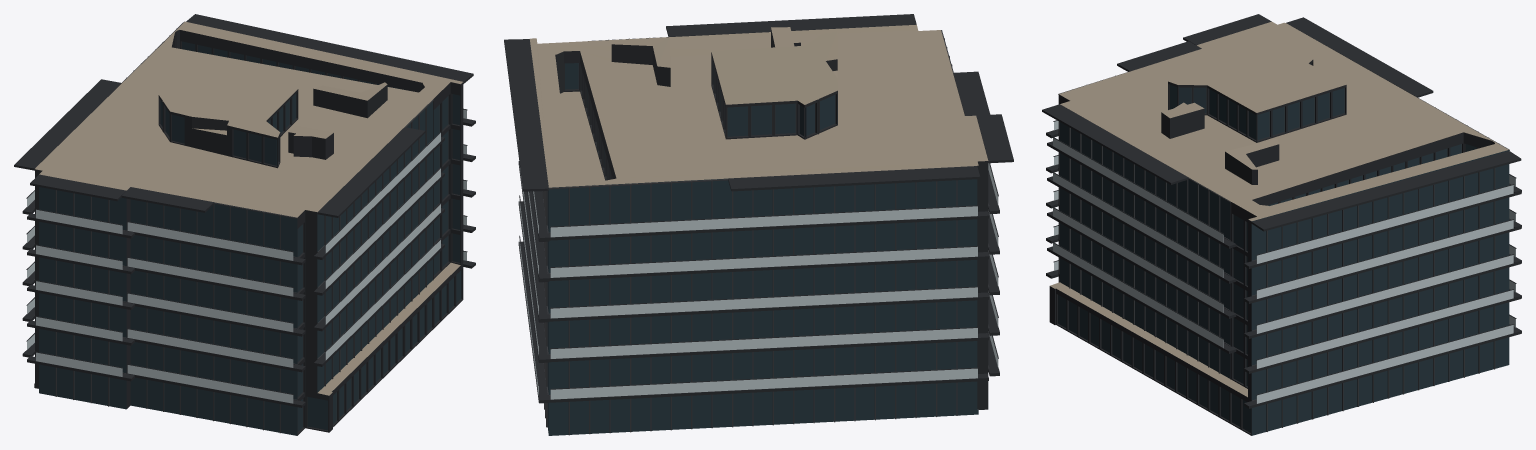
File: recipe-large-houthavens-252692.glb
3 views of the same model, side by side, from view 1: azimuth 30°, elevation 25°; view 2: azimuth 150°, elevation 25°; view 3: azimuth 270°, elevation 25° (orthographic). The views are drawn at different scales.
Parts seen in each view (by area): view 1: houthavens-252692; view 2: houthavens-252692; view 3: houthavens-252692.
Boxes of the visible parts, box(x1,y1,x2,y2) form: houthavens-252692: box(14, 14, 475, 435); houthavens-252692: box(504, 14, 1013, 435); houthavens-252692: box(1042, 14, 1521, 435).
Size of the model in its own units: 50.2 by 26.78 by 47.49.
